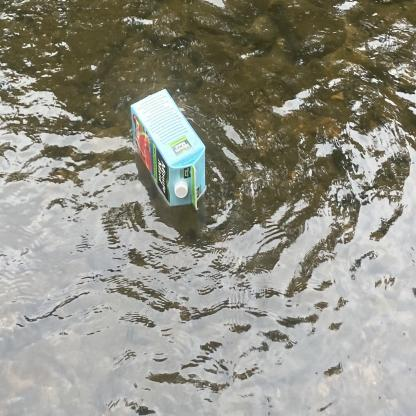trash: (124, 86, 212, 214)
